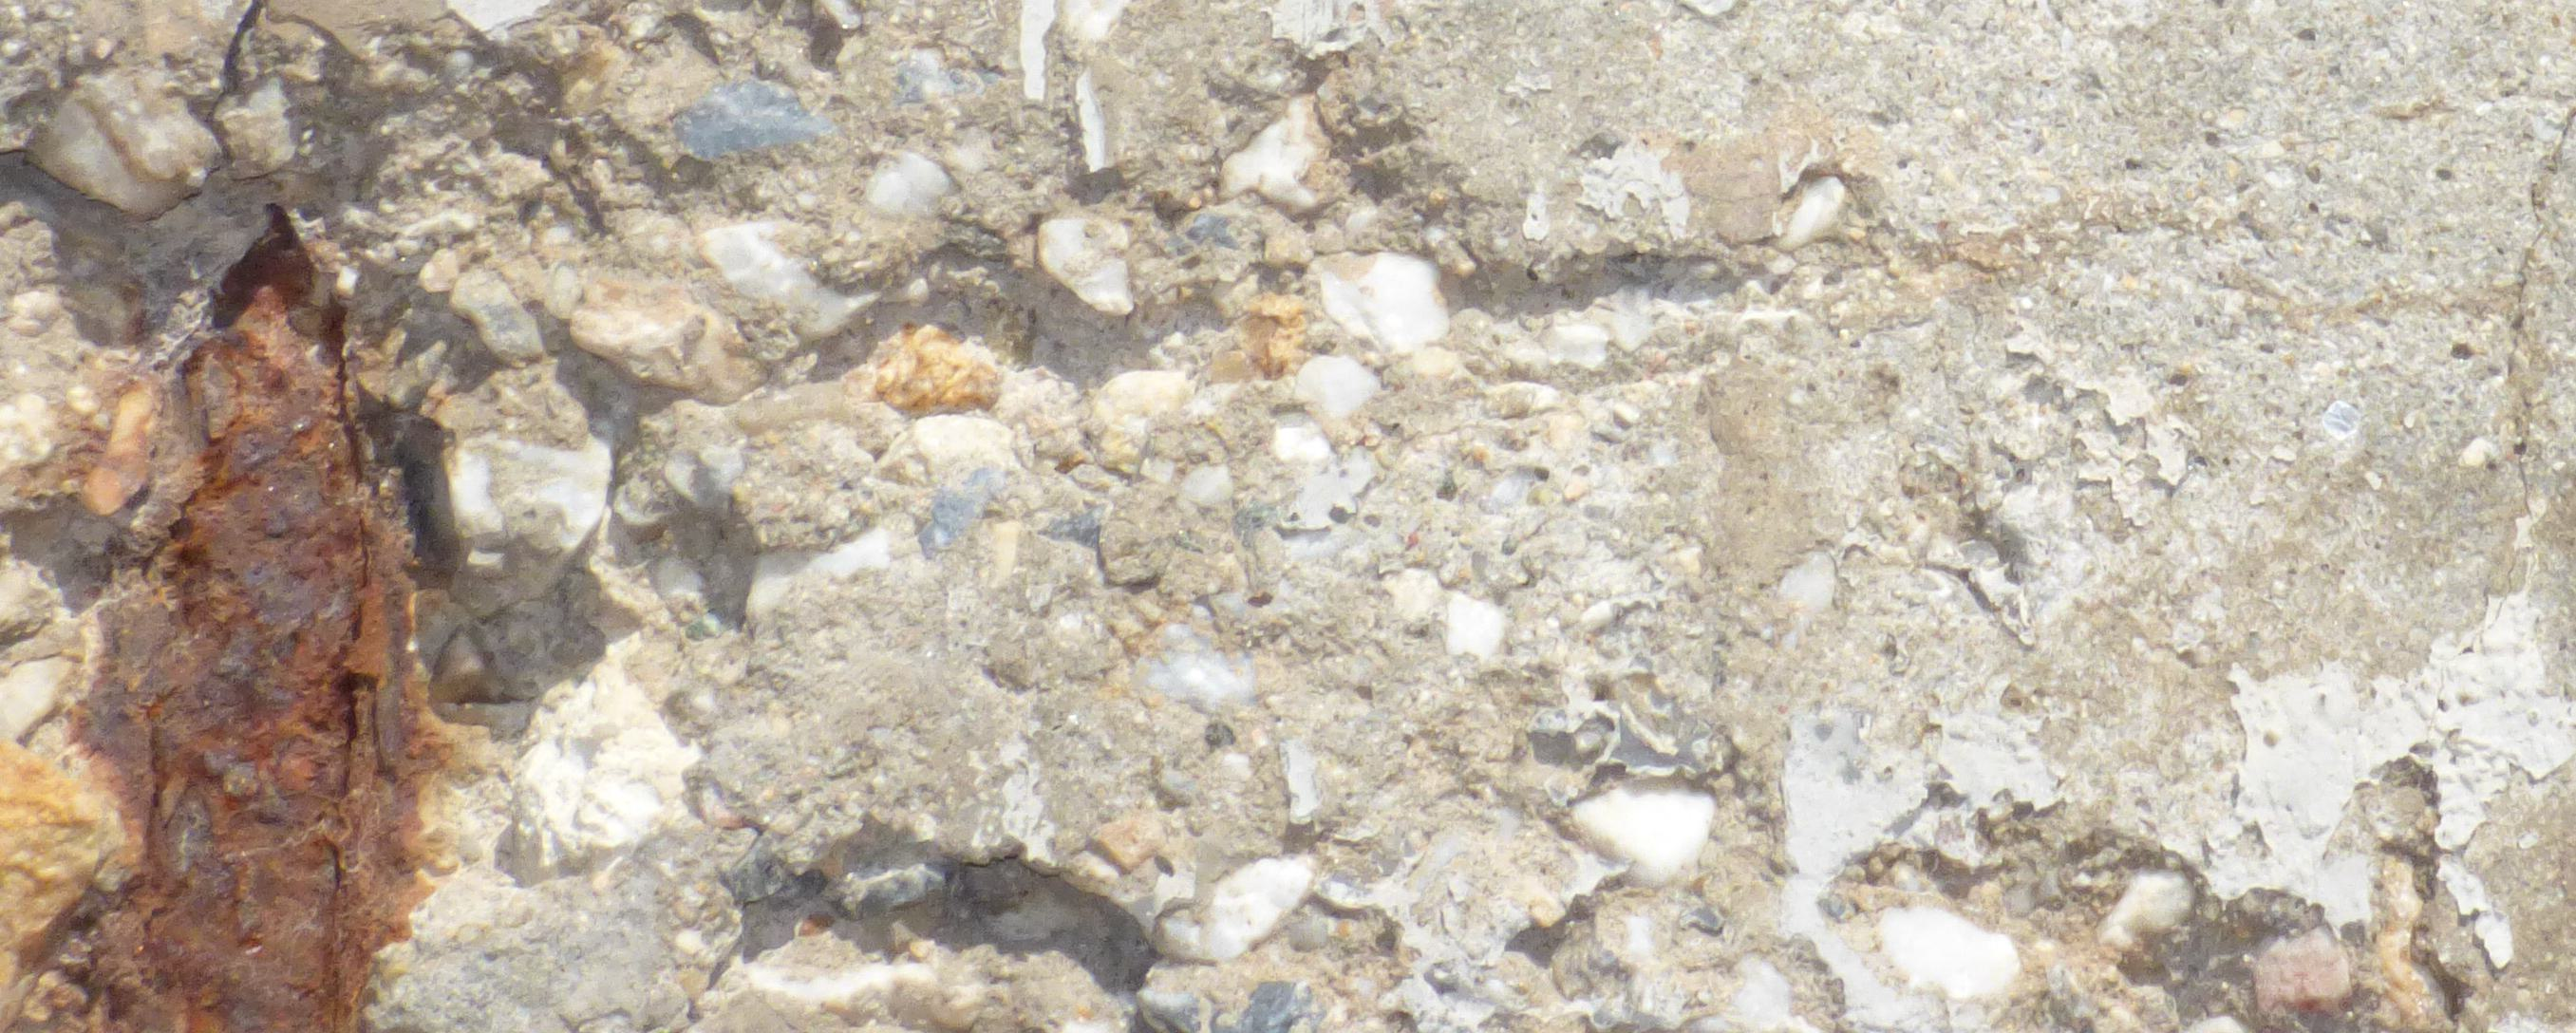Exposed reinforcement: (80, 199, 424, 1033)
